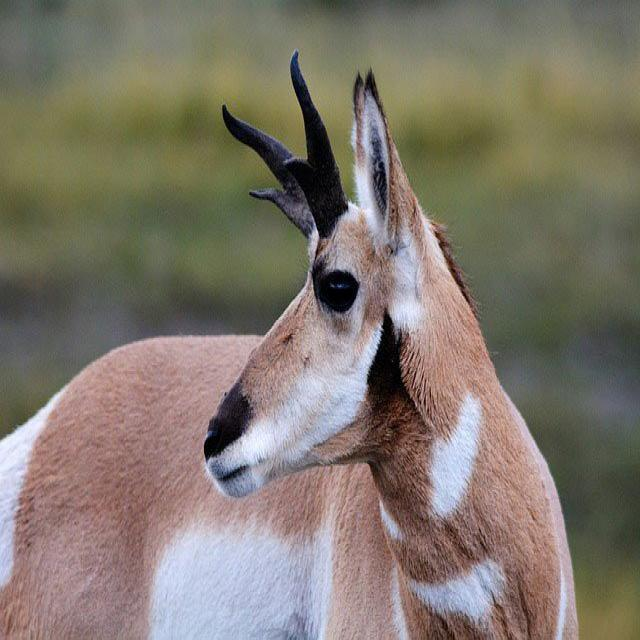Antelope: (0, 40, 578, 639)
